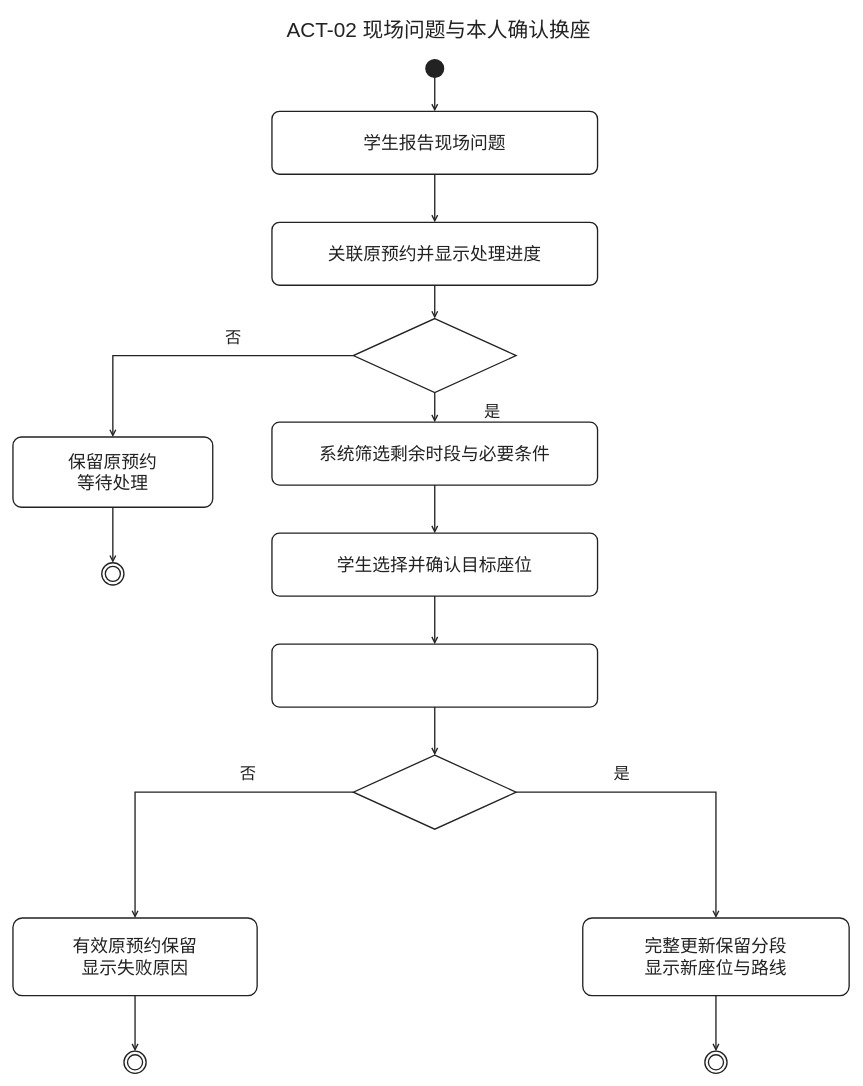
Image size: 863x1086. Some labels were removed from this diagram. The shapes that lost their labels are listed below. From the top down, each one's box as (x1, y1, x2, y2) in pixels, then its label:
(352, 318, 516, 393): 选择换座？
(271, 643, 598, 707): 系统重新校验状态与资源
(352, 754, 516, 829): 校验及提交成功？
